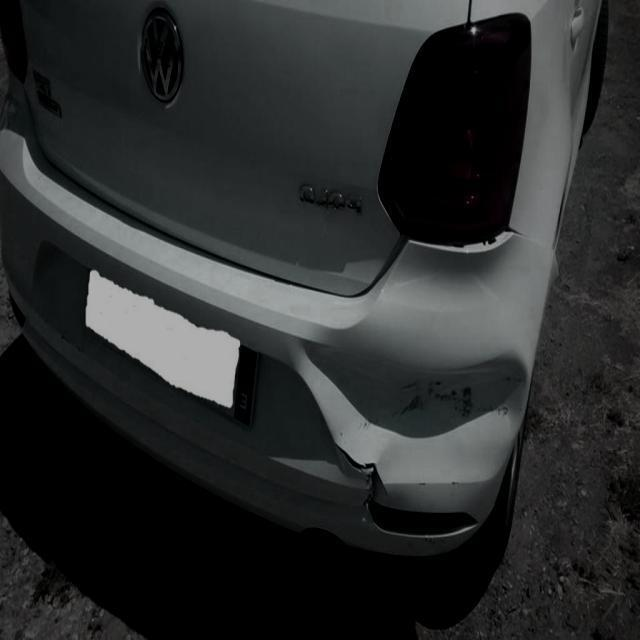minor: (291, 335, 531, 486)
